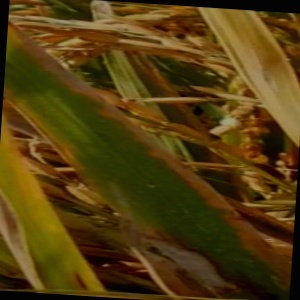Leaf_Blast: (27, 55, 104, 151), (0, 185, 55, 288)
